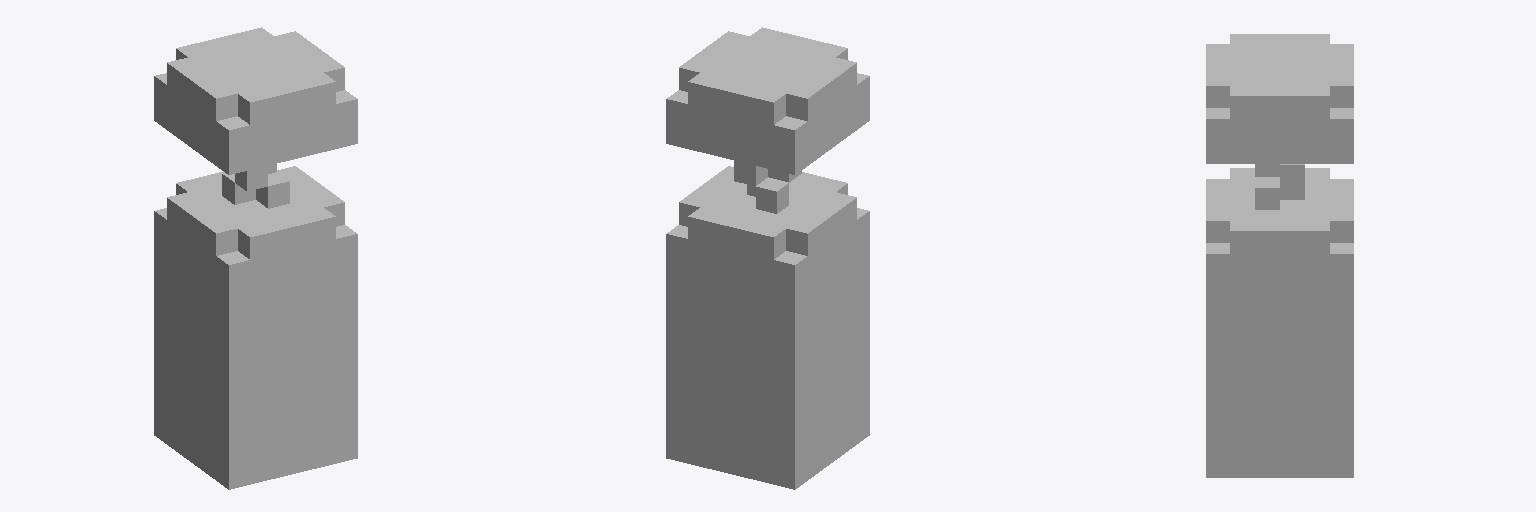
The model's file is Stand.obj.
3 views of the same model, side by side, from view 1: azimuth 30°, elevation 25°; view 2: azimuth 150°, elevation 25°; view 3: azimuth 270°, elevation 25° (orthographic).
Visible parts, largest first — view 1: Stand; view 2: Stand; view 3: Stand.
Part boxes in pixels (left/top/right/bottom): Stand: left=154, top=27, right=357, bottom=489; Stand: left=666, top=27, right=869, bottom=489; Stand: left=1206, top=34, right=1353, bottom=477.
Bounding box in the file's own units: 6 × 17 × 6.